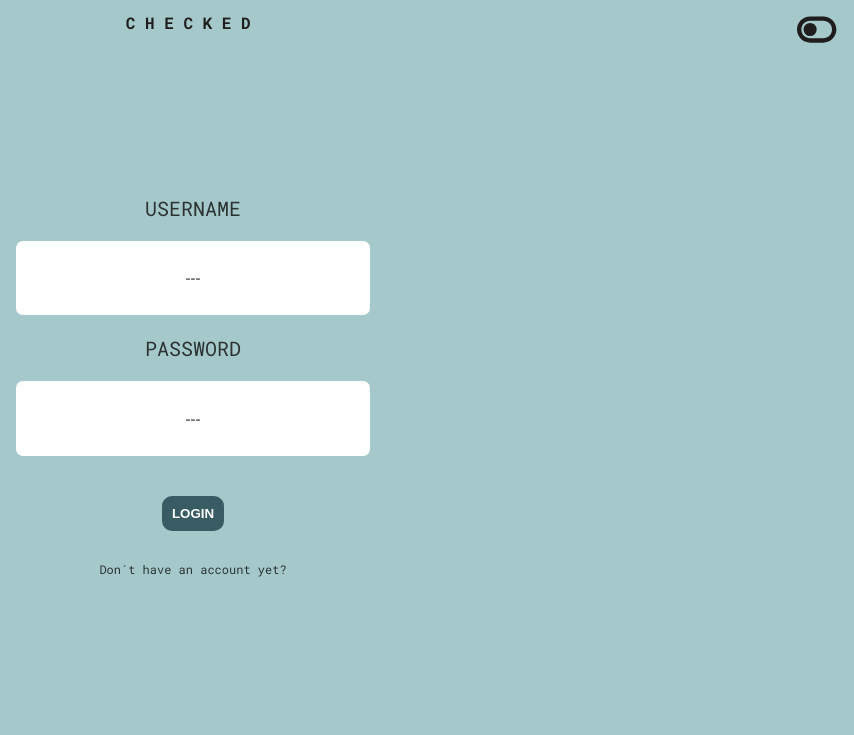
Test: Task_app › Login › Can change from login to sign-in form
Step 1. Click the text "Don´t have an account yet?" → (193,570), box [99,562,286,578]
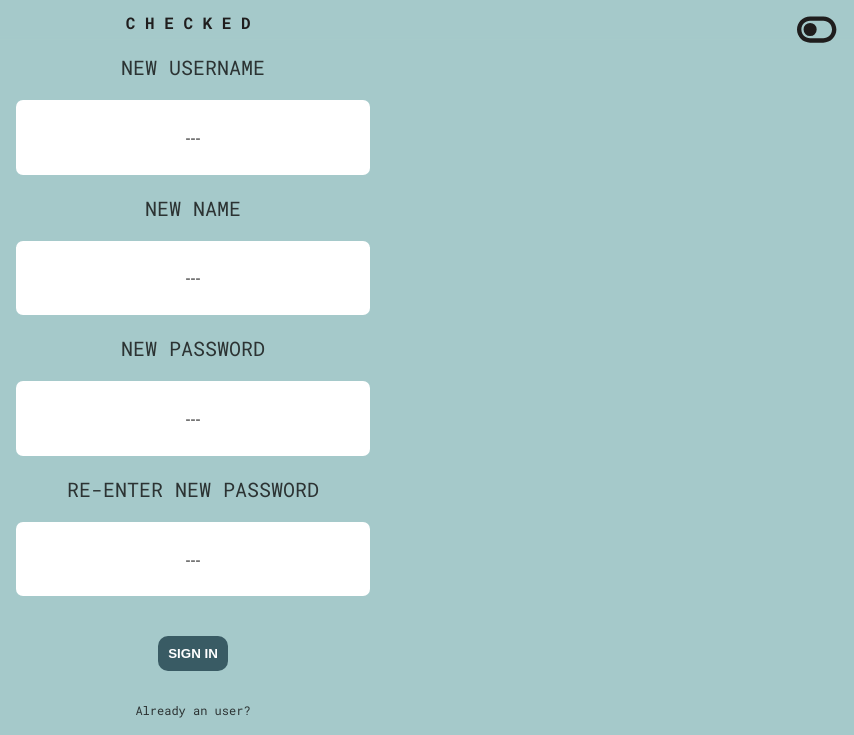
Result: the button "SIGN IN" is shown at [158,636,228,671]
